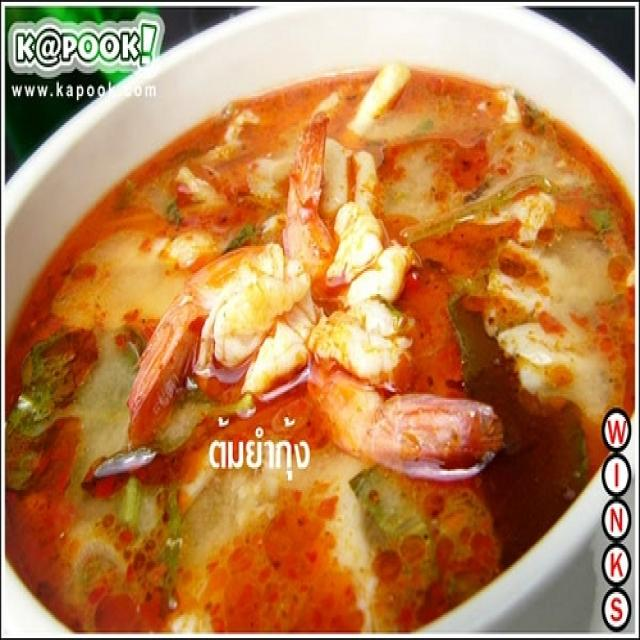汤锅炖物: (32, 52, 598, 613)
